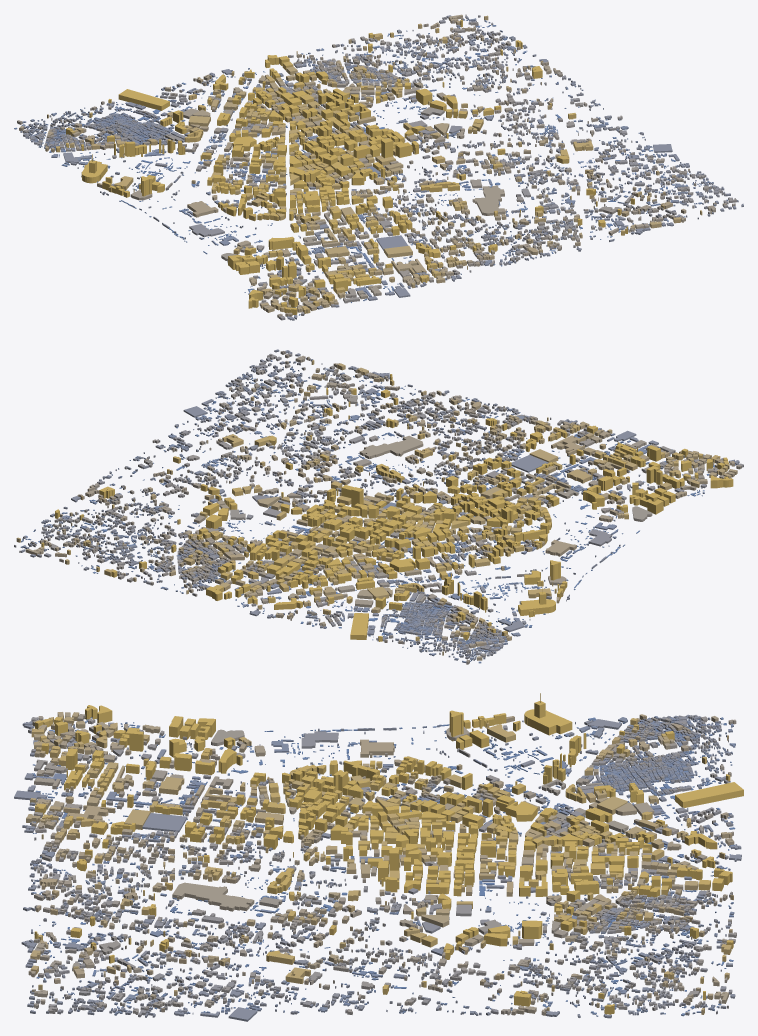
Rendered from buildings.glb.
3 renders of one model, top to bottom at view 1: azimuth 30°, elevation 25°; view 2: azimuth 150°, elevation 25°; view 3: azimuth 270°, elevation 25°, orthographic. The views are drawn at different scales.
Parts seen in each view (by area): view 1: buildings; view 2: buildings; view 3: buildings.
Part boxes in pixels (bbox=[...]): buildings: bbox=[14, 14, 743, 320]; buildings: bbox=[14, 349, 743, 664]; buildings: bbox=[14, 693, 743, 1021].
Bounding box in the file's own units: 2710 × 138 × 2709.
